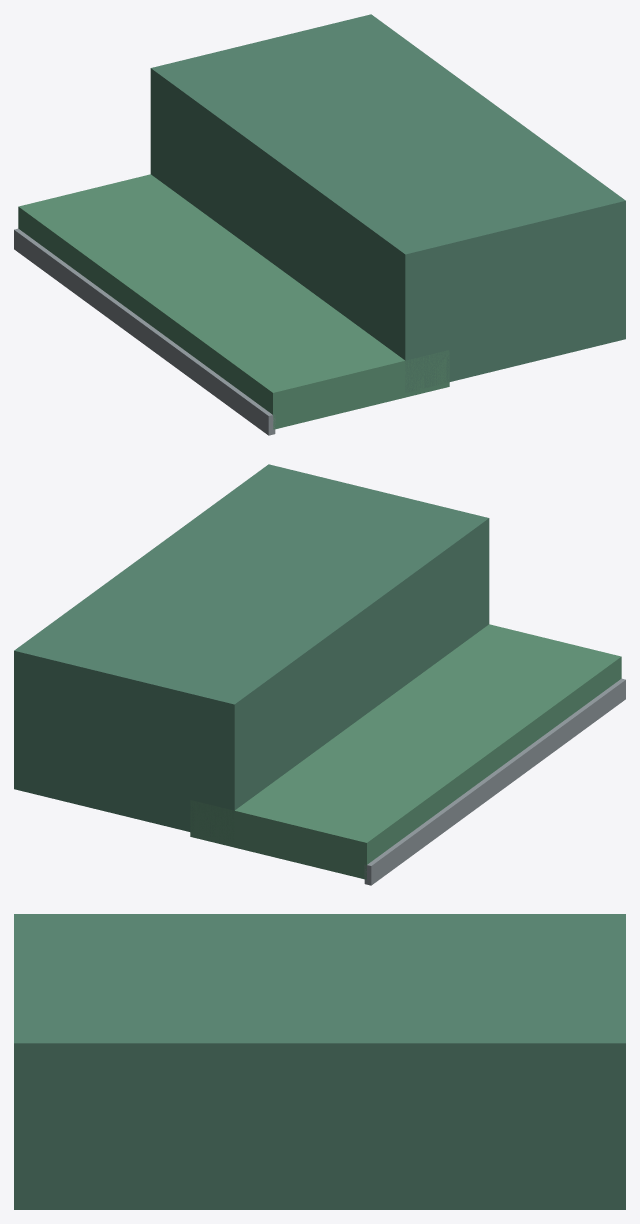
The model's file is orilla_tramo.glb.
3 renders of one model, top to bottom at view 1: azimuth 30°, elevation 25°; view 2: azimuth 150°, elevation 25°; view 3: azimuth 270°, elevation 25°, orthographic. The views are drawn at different scales.
Visible parts, largest first — view 1: orilla_tramo; view 2: orilla_tramo; view 3: orilla_tramo.
Part boxes in pixels (box(x1,y1,x2,y2)): orilla_tramo: box(14, 14, 625, 435); orilla_tramo: box(14, 464, 625, 885); orilla_tramo: box(14, 914, 625, 1209).
Size of the model in its own units: 16.2 by 6.41 by 20.
